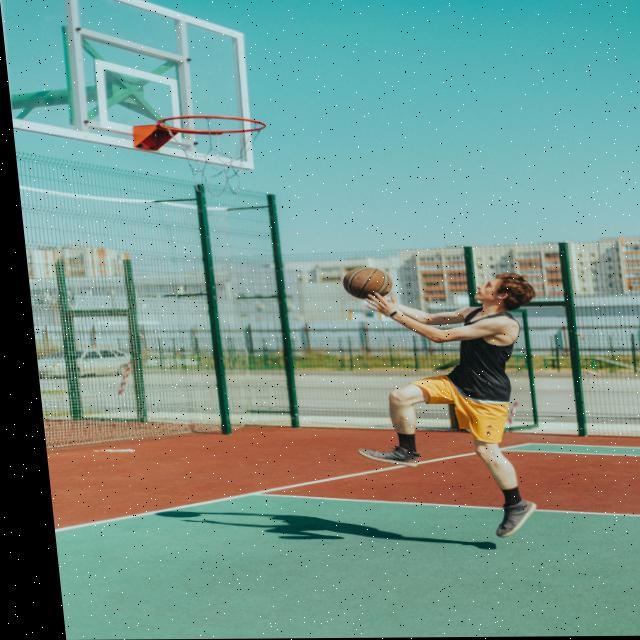basketball: (342, 267, 394, 300)
hoop: (157, 116, 273, 195)
